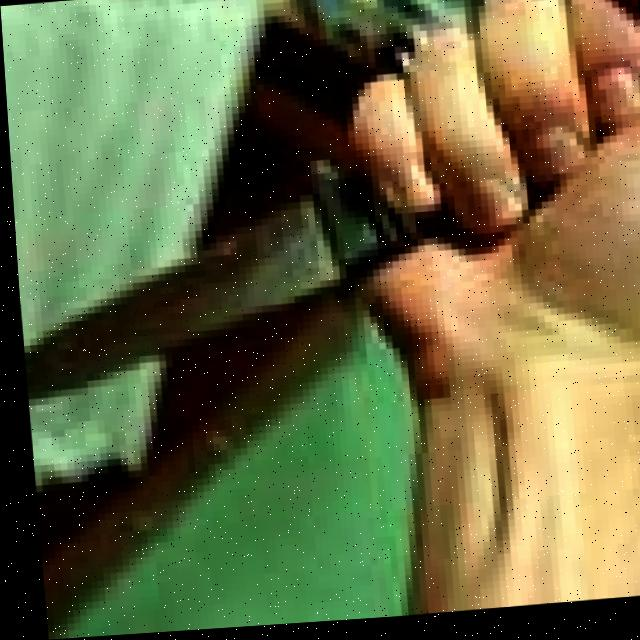knife: (9, 155, 456, 406)
